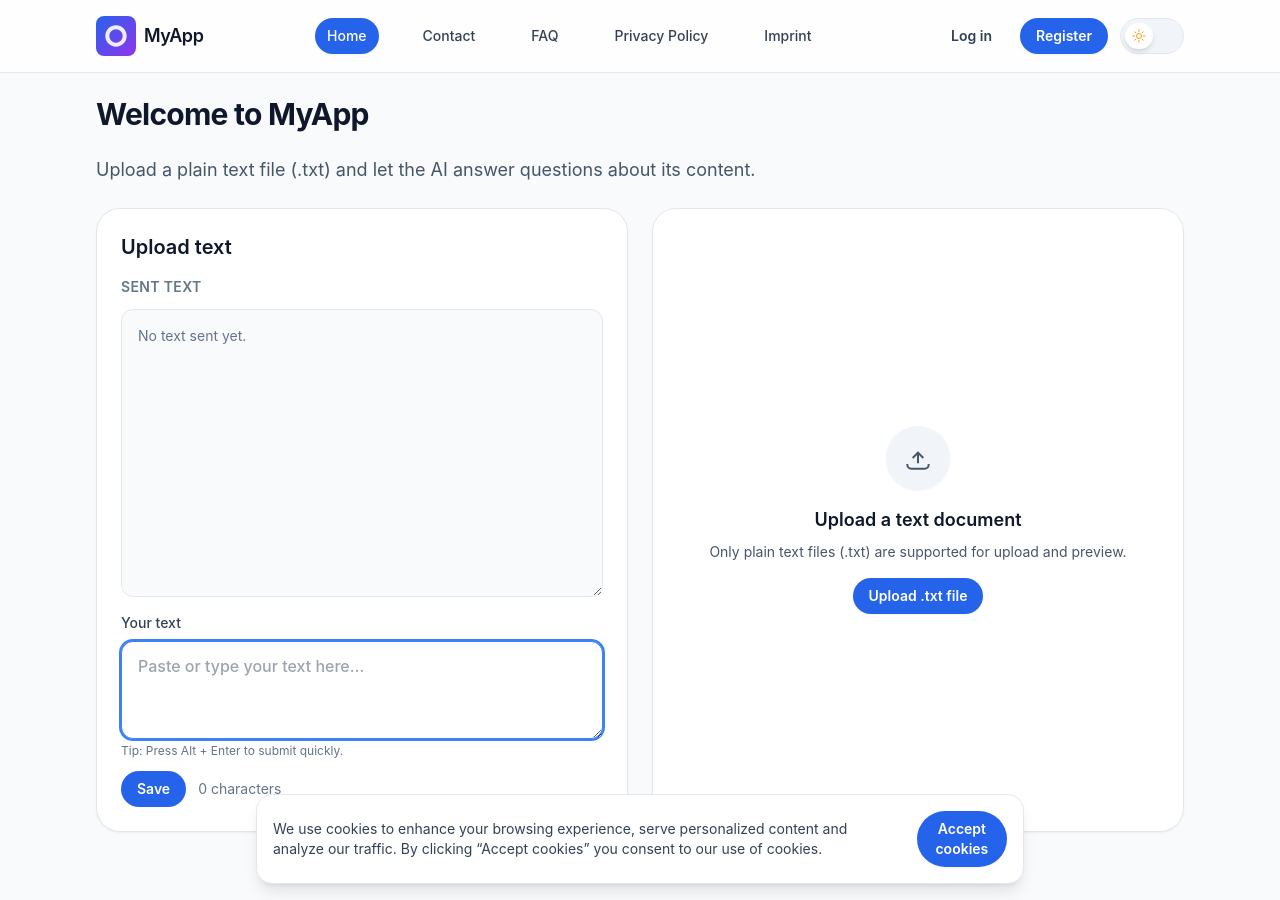
it: App › renders navigation links, auth buttons, and cookie banner
This screenshot has width=1280, height=900.
Expected: the link "Home" is shown, [315, 18, 378, 54]
Expected: the link "Log in" is shown, [951, 27, 992, 44]
Click the button "Accept cookies" at x=962, y=839, box [917, 811, 1007, 867]
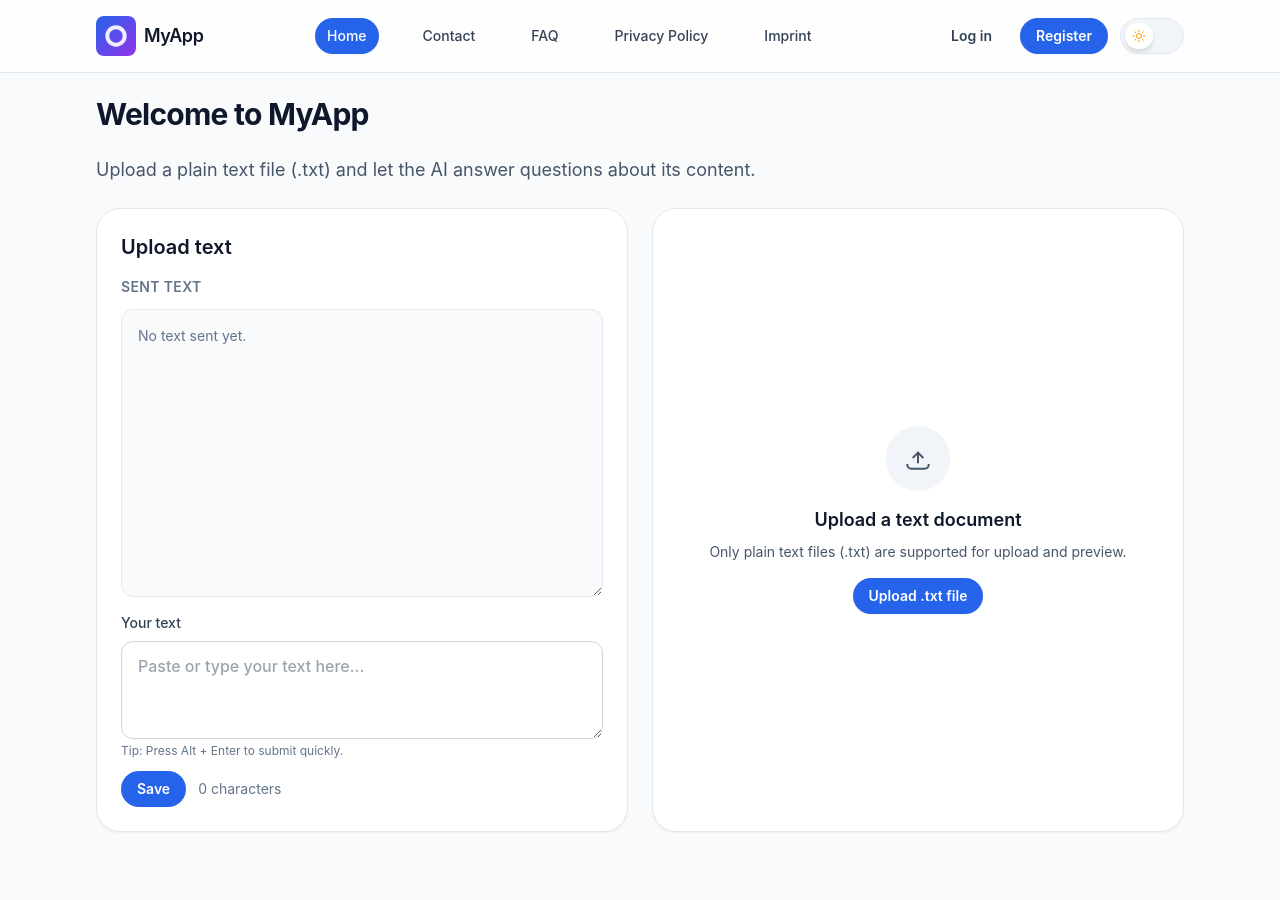
Expected: the text "accept cookies" is gone
